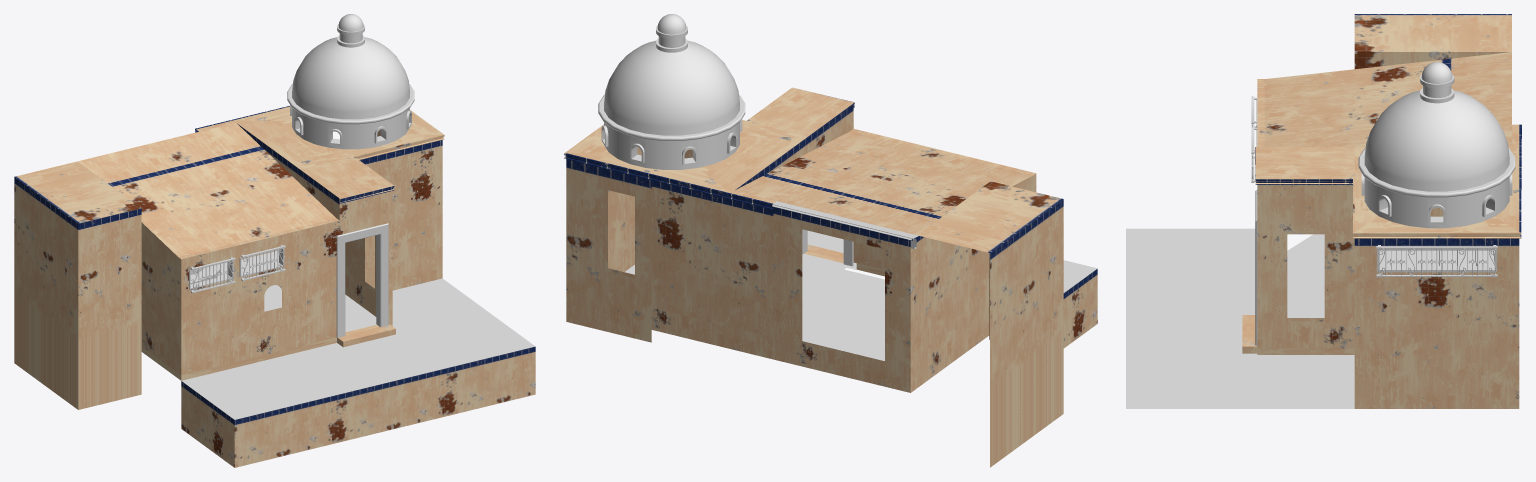
Rendered from kitchen.fbx.
3 renders of one model, left to right at view 1: azimuth 30°, elevation 25°; view 2: azimuth 150°, elevation 25°; view 3: azimuth 270°, elevation 25°, orthographic. The views are drawn at different scales.
Visible parts, largest first — view 1: kitchen_exterior, kitchen_exterior.001, cupula, kitchen_interior.003, kitchen_interior.005, kitchen_interior.001, kitchen_interior; view 2: kitchen_exterior, cupula, kitchen_interior.004, kitchen_interior.002, kitchen_interior.005, kitchen_exterior.001, kitchen_interior.001; view 3: kitchen_exterior, kitchen_exterior.001, cupula, kitchen_interior.005, kitchen_interior, kitchen_interior.003, kitchen_interior.001.
Part boxes in pixels (x1,y1,x2,y2): kitchen_exterior: [14, 106, 444, 409]; kitchen_exterior.001: [181, 278, 535, 467]; cupula: [287, 14, 414, 149]; kitchen_interior.003: [336, 223, 388, 337]; kitchen_interior.005: [190, 250, 376, 332]; kitchen_interior.001: [189, 199, 340, 293]; kitchen_interior: [340, 199, 376, 316]; kitchen_exterior: [564, 87, 1063, 467]; cupula: [598, 14, 745, 169]; kitchen_interior.004: [604, 189, 910, 392]; kitchen_interior.002: [910, 236, 989, 392]; kitchen_interior.005: [624, 254, 945, 363]; kitchen_exterior.001: [807, 230, 1097, 348]; kitchen_interior.001: [772, 201, 918, 248]; kitchen_exterior: [1255, 14, 1521, 408]; kitchen_exterior.001: [1126, 228, 1354, 408]; cupula: [1358, 62, 1515, 228]; kitchen_interior.005: [1287, 234, 1494, 317]; kitchen_interior: [1287, 245, 1497, 321]; kitchen_interior.003: [1255, 190, 1257, 345]; kitchen_interior.001: [1251, 96, 1257, 182].
Size of the model in its own units: 8.72 by 6.81 by 6.6.
